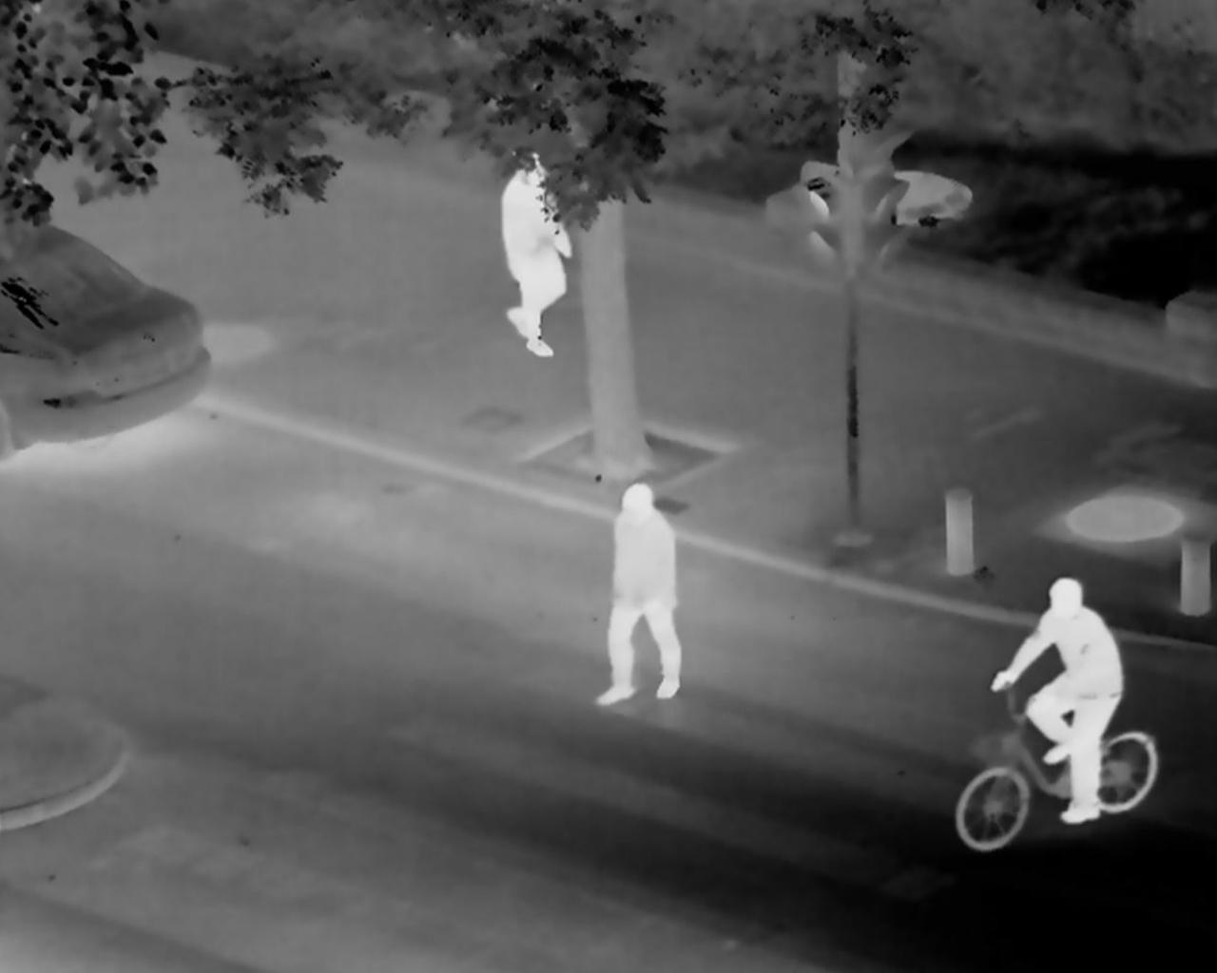person: (1012, 572, 1109, 817), (481, 151, 595, 357), (594, 474, 680, 715)
